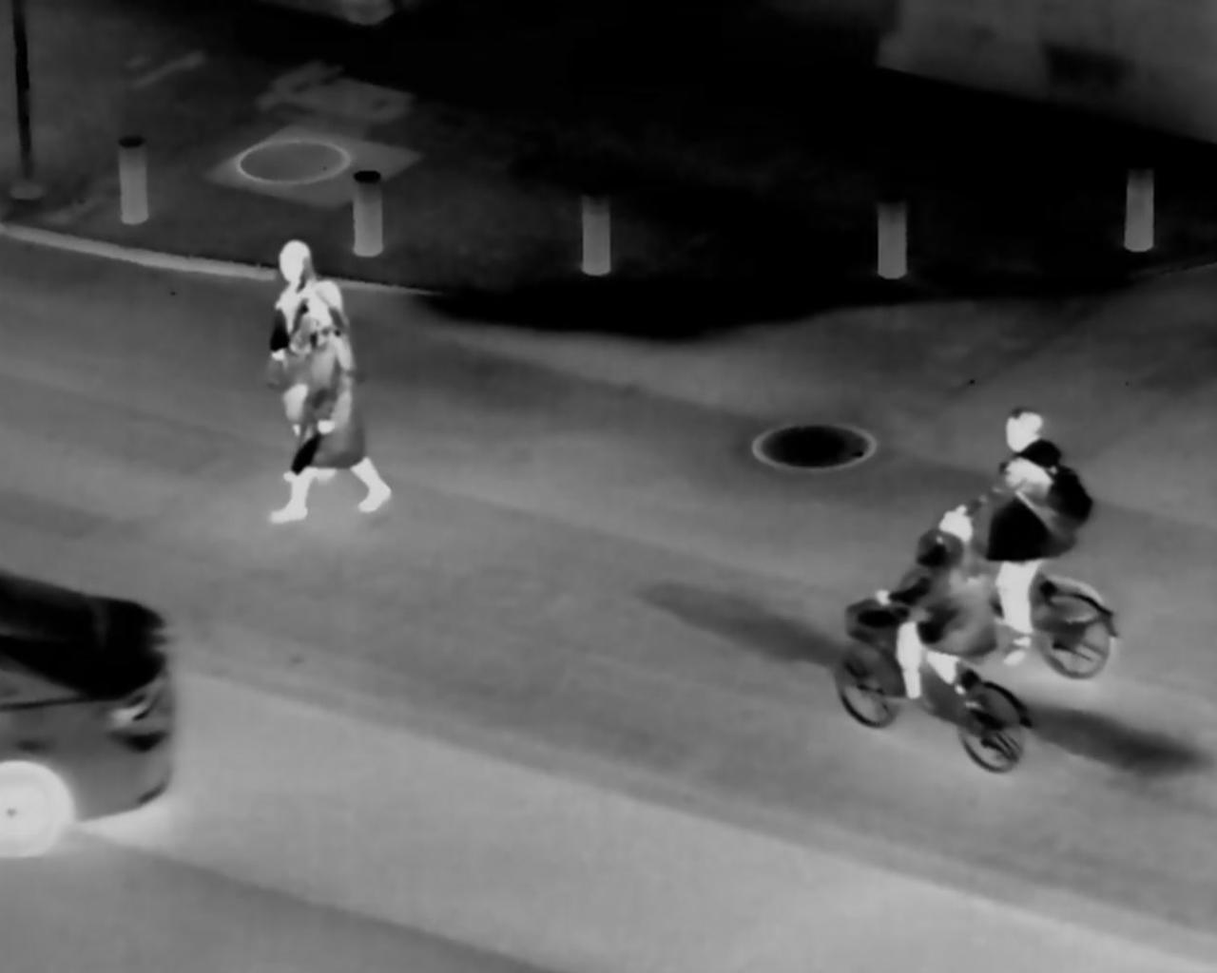person: (969, 395, 1096, 660), (860, 498, 1000, 725), (289, 284, 390, 520), (251, 231, 311, 395)
